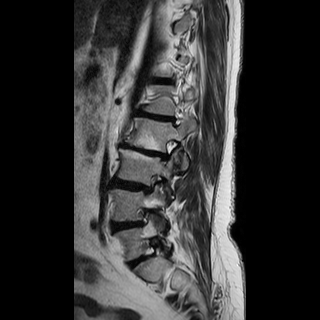RFS1: (154, 134, 183, 166)
RFS3: (139, 167, 168, 201), (126, 203, 155, 237)
